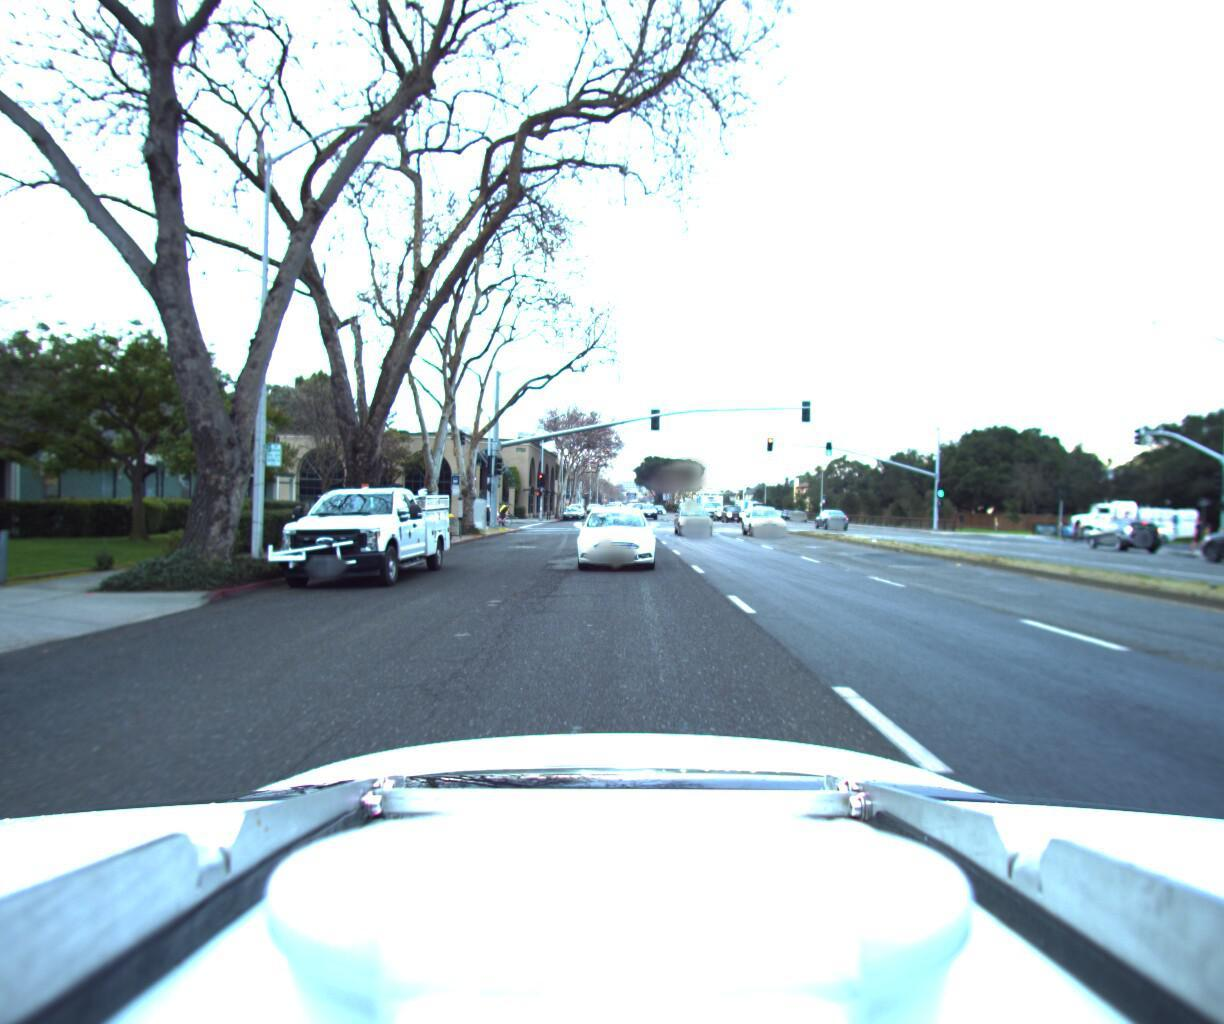bicycle: (463, 494, 514, 523), (474, 497, 505, 522), (1067, 508, 1092, 535)
car: (243, 477, 449, 593), (573, 496, 659, 567), (1168, 507, 1224, 563), (1082, 509, 1163, 546), (740, 496, 797, 536), (1089, 511, 1176, 537), (670, 501, 721, 536), (807, 501, 846, 523), (719, 496, 745, 516), (565, 495, 585, 513), (561, 498, 582, 513), (637, 501, 657, 516)
truck: (1060, 488, 1224, 542)
